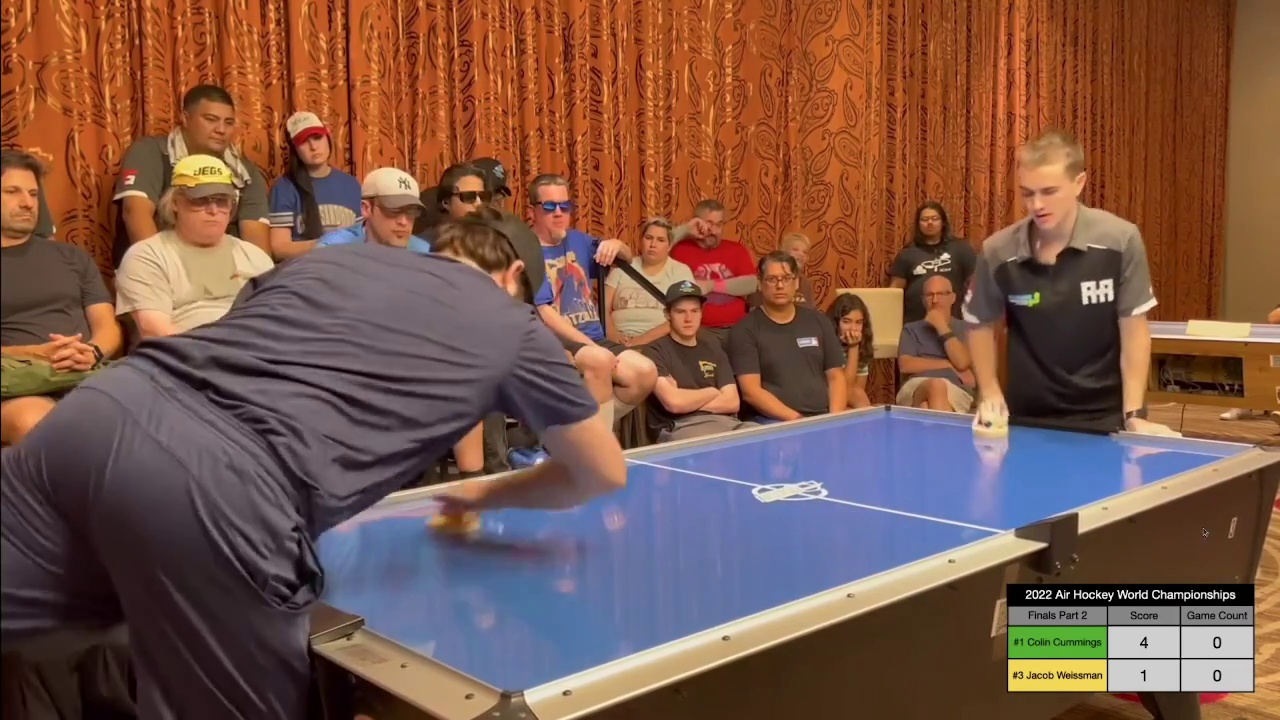player: (417, 497, 486, 533), (971, 408, 1015, 440)
table: (293, 401, 1280, 697)
